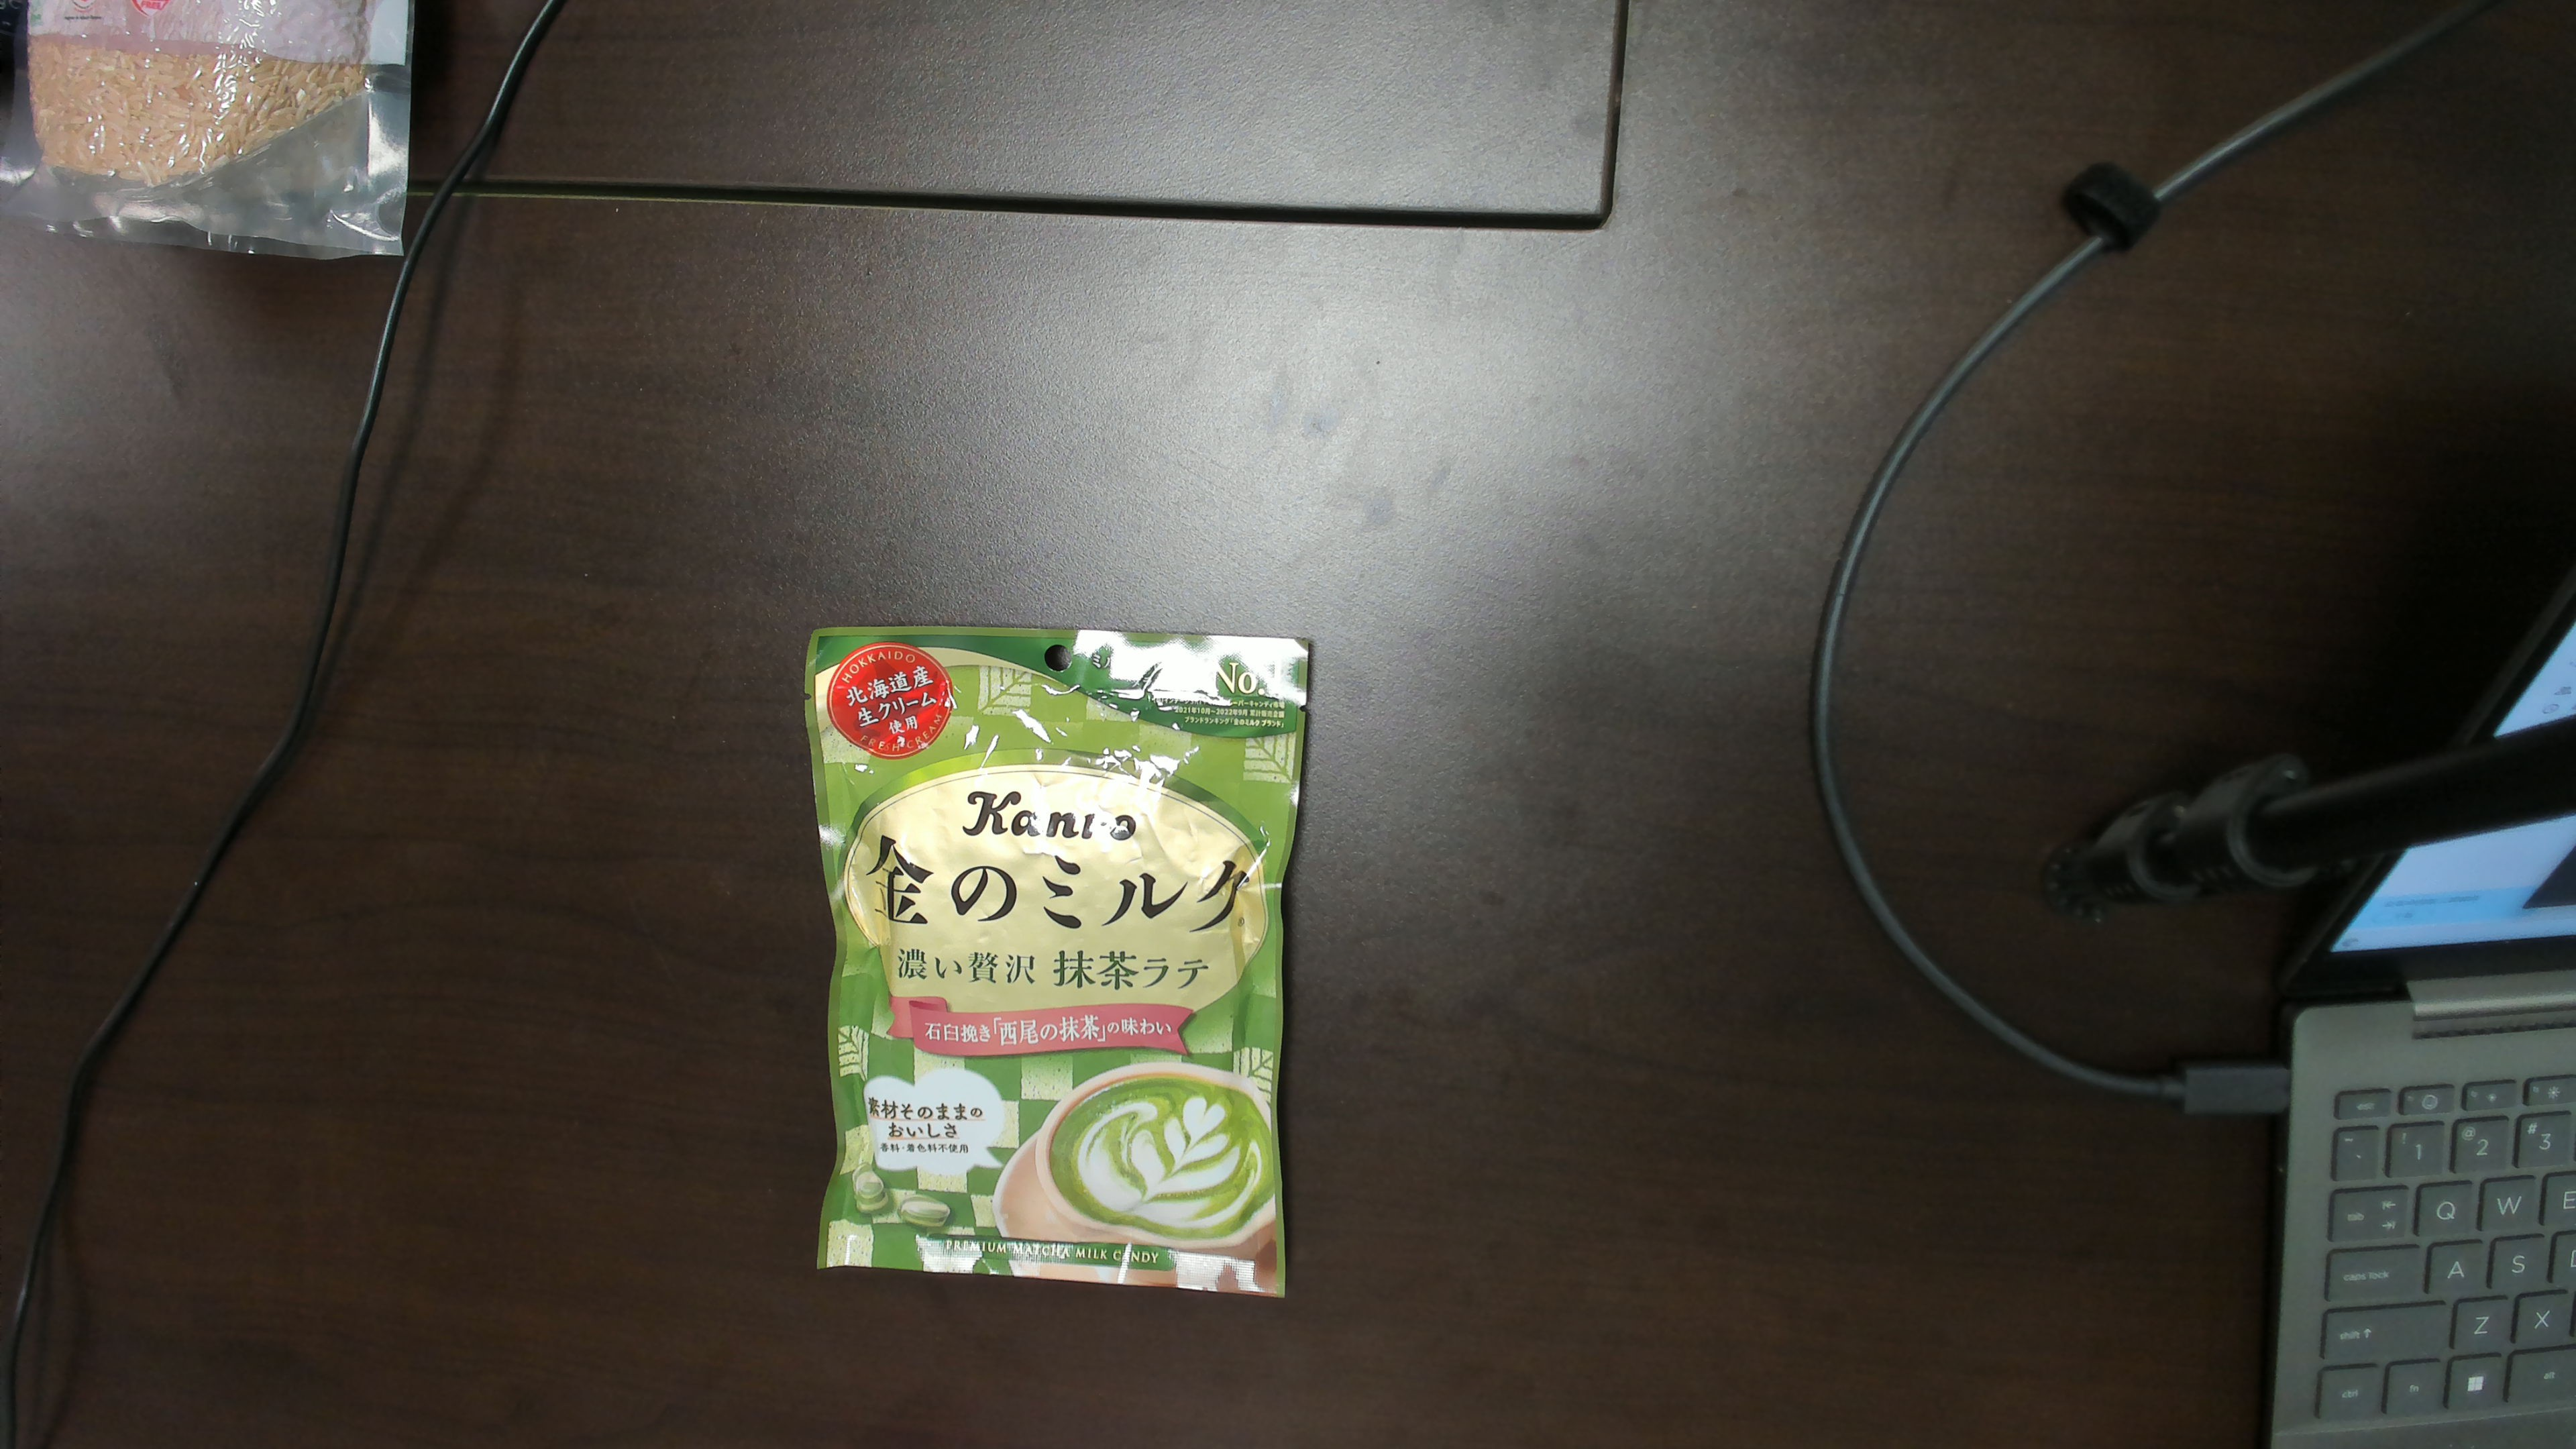SweetsChocolatesOthers_100-199g_NonHalal_NonHealthy: (816, 637, 1281, 1295)
